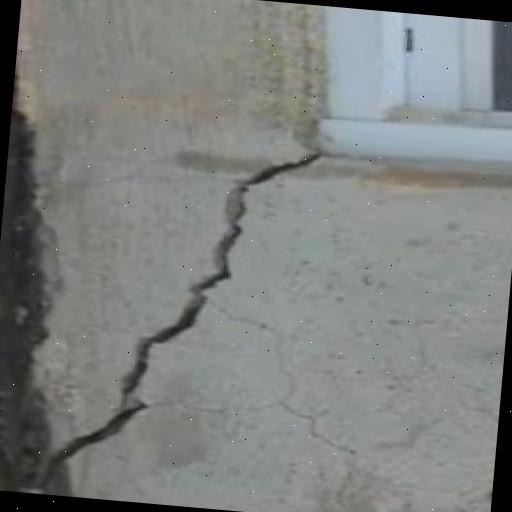spalling: (26, 146, 330, 486)
